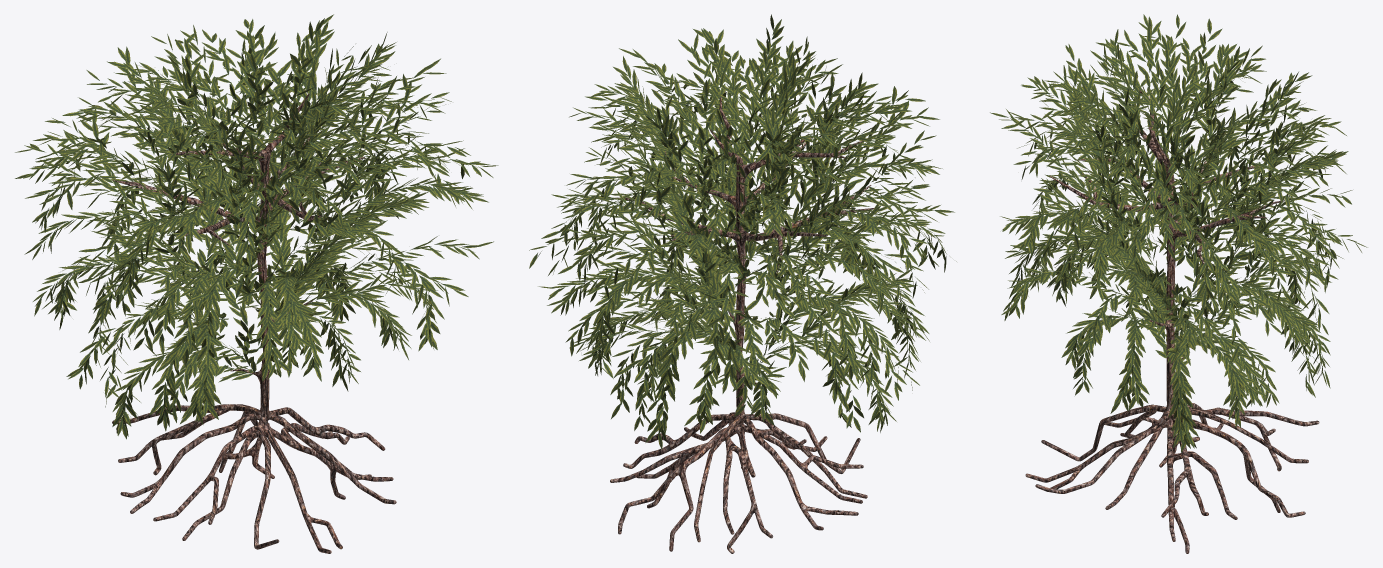
Rendered from magueArvorewTextureT3.fbx.
3 renders of one model, left to right at view 1: azimuth 30°, elevation 25°; view 2: azimuth 150°, elevation 25°; view 3: azimuth 270°, elevation 25°, orthographic. The views are drawn at different scales.
Parts seen in each view (by area): view 1: leaves, Cube; view 2: leaves, Cube; view 3: leaves, Cube.
Part boxes in pixels (x1,y1,x2,y2): leaves: (15, 14, 498, 439); Cube: (112, 93, 396, 553); leaves: (529, 14, 956, 449); Cube: (610, 97, 874, 553); leaves: (990, 14, 1367, 452); Cube: (1025, 89, 1319, 553).
Bounding box in the file's own units: 3632 × 4436 × 3226.
2 materials, 2 textured.
